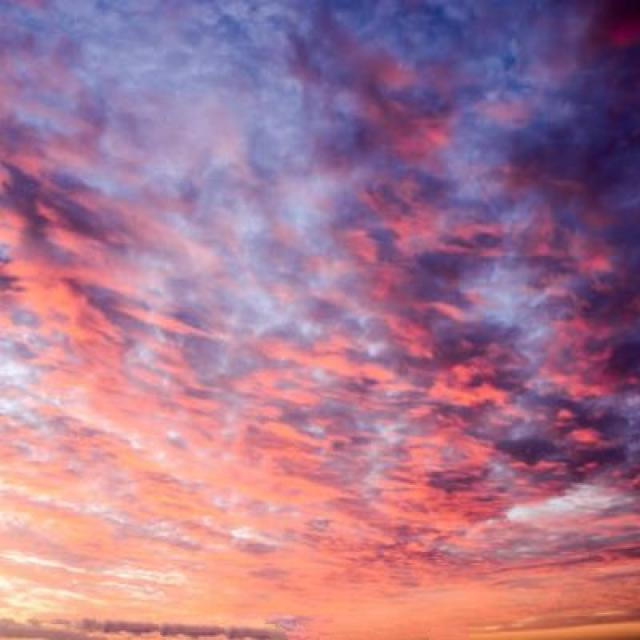Cc: (1, 38, 629, 582)
